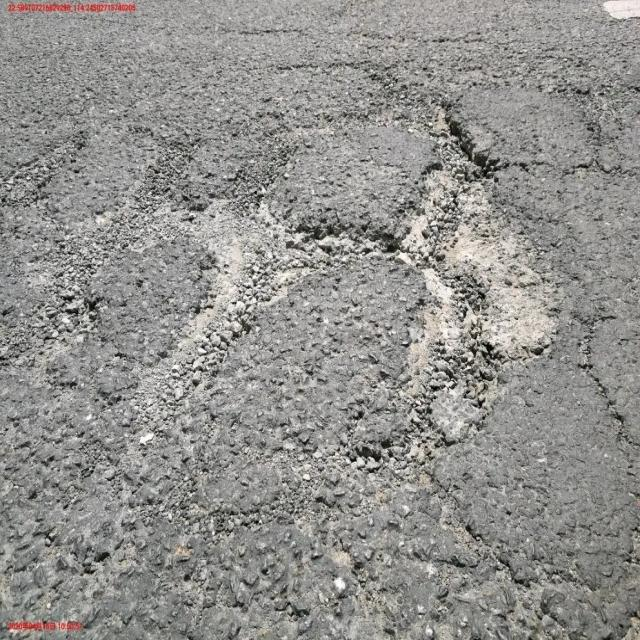Pothole: (24, 145, 299, 401), (389, 75, 559, 451)
